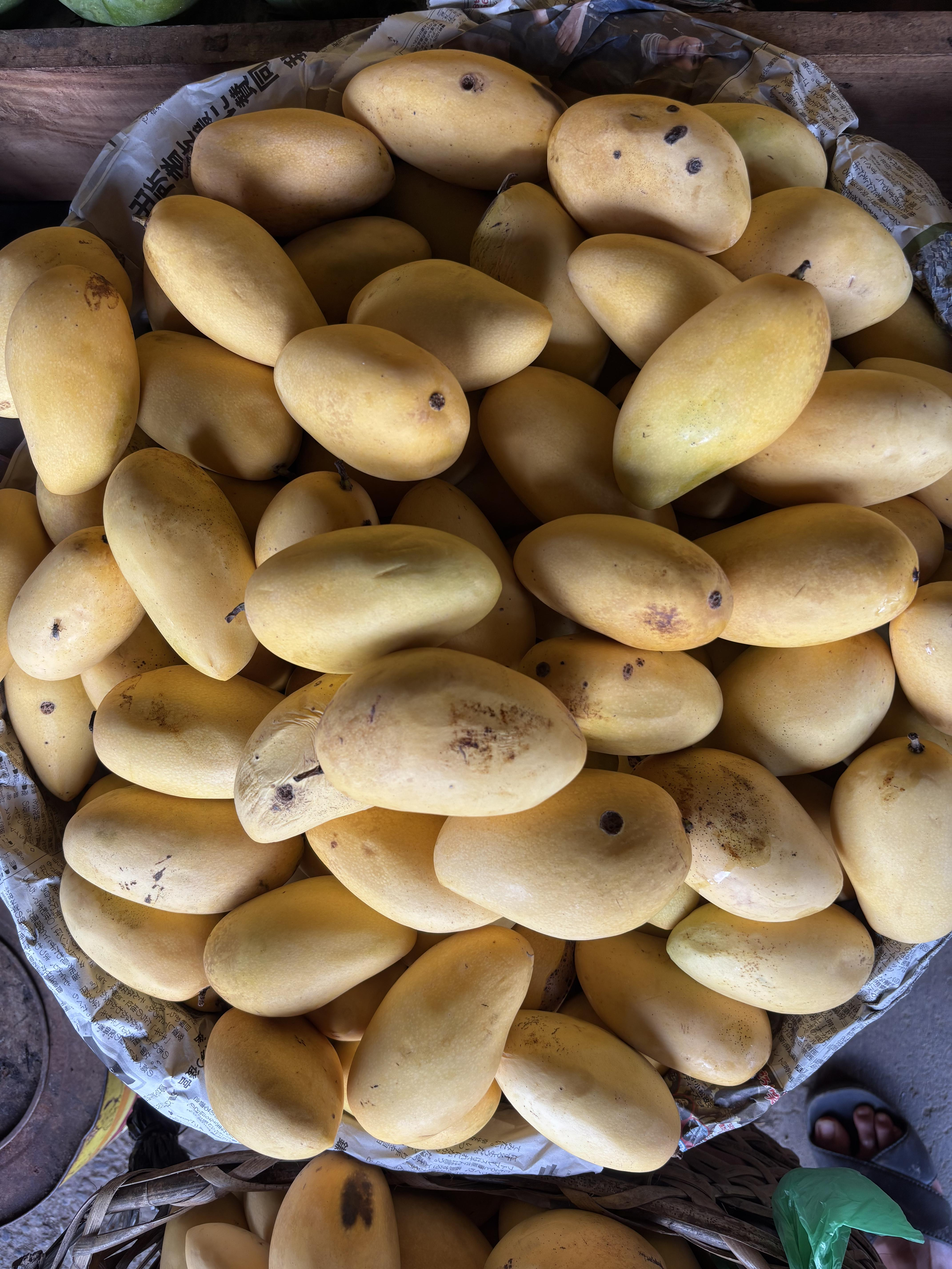mango: (613, 258, 830, 509), (316, 648, 586, 817), (348, 925, 534, 1145), (5, 265, 139, 495), (514, 514, 733, 651)
occluded: (434, 769, 691, 941), (245, 525, 501, 674), (636, 748, 842, 922), (104, 449, 257, 680), (478, 366, 678, 533), (548, 94, 750, 254), (697, 503, 918, 647), (144, 195, 326, 367), (343, 49, 565, 189), (274, 325, 470, 482), (64, 785, 302, 914), (729, 369, 952, 506), (576, 931, 772, 1086), (713, 187, 912, 339), (204, 876, 416, 1017), (496, 1011, 680, 1173), (470, 182, 609, 384), (704, 633, 895, 777), (391, 478, 536, 667), (348, 259, 552, 391), (191, 108, 395, 238), (93, 665, 284, 800), (831, 734, 952, 943), (0, 227, 132, 418), (518, 633, 722, 755), (136, 331, 301, 481), (306, 807, 498, 933), (568, 233, 739, 368), (234, 674, 370, 843), (667, 905, 874, 1014), (60, 864, 223, 1001), (6, 525, 144, 680), (205, 1008, 344, 1160), (285, 216, 431, 324), (269, 1151, 400, 1269), (365, 158, 494, 265), (255, 457, 379, 567), (4, 663, 96, 801), (698, 103, 827, 198), (485, 1208, 666, 1269), (0, 489, 52, 680), (834, 289, 952, 372), (80, 615, 184, 709), (890, 581, 952, 734), (306, 962, 406, 1041), (393, 1190, 490, 1269), (855, 677, 952, 754), (866, 496, 945, 585), (404, 1080, 501, 1149), (159, 1195, 247, 1269), (514, 925, 575, 1011), (36, 476, 107, 544), (143, 262, 201, 335), (185, 1223, 268, 1269), (857, 357, 952, 397), (781, 774, 833, 845), (674, 473, 752, 519), (648, 883, 700, 931), (241, 1189, 287, 1243), (912, 470, 952, 528), (498, 1198, 548, 1240), (332, 1040, 360, 1113)
